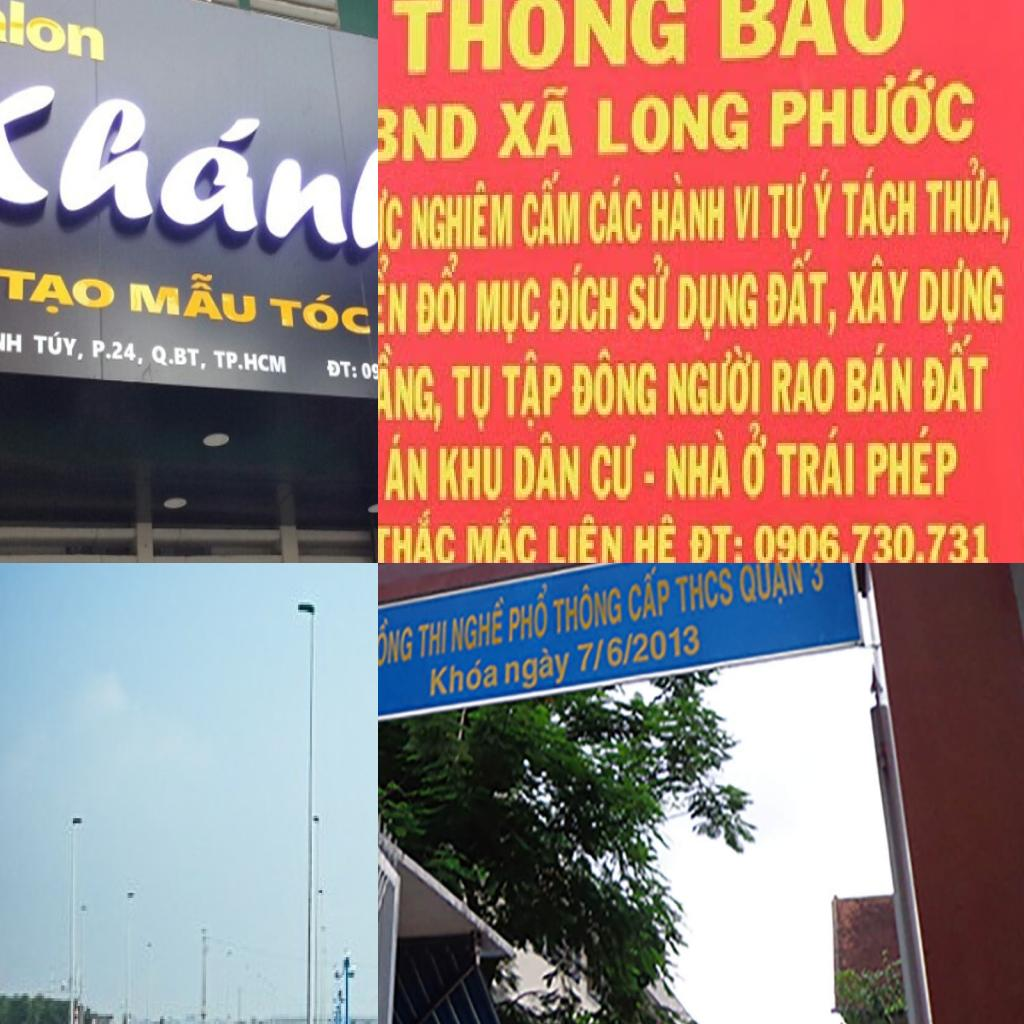text: (0, 63, 378, 265), (390, 0, 690, 81), (768, 67, 978, 155), (716, 0, 910, 66), (596, 86, 754, 160), (752, 519, 994, 563), (924, 152, 1016, 249), (410, 178, 516, 255), (128, 267, 259, 328), (918, 255, 1008, 340), (764, 246, 842, 343), (666, 343, 764, 420), (378, 100, 482, 172), (866, 423, 962, 500), (570, 343, 660, 423), (378, 340, 450, 437), (0, 0, 107, 64), (0, 265, 118, 322), (494, 84, 578, 164), (676, 269, 762, 346), (774, 423, 858, 500), (840, 164, 920, 244), (920, 332, 992, 417), (650, 169, 728, 246), (546, 260, 622, 338), (520, 166, 584, 255), (500, 349, 568, 432), (268, 285, 374, 338), (844, 340, 916, 418), (512, 429, 584, 506), (844, 252, 914, 329), (664, 426, 734, 503), (474, 275, 544, 349), (588, 432, 658, 506), (414, 249, 470, 340), (550, 571, 624, 639), (378, 505, 462, 563), (586, 172, 646, 252), (770, 352, 838, 420), (464, 505, 542, 563), (438, 443, 506, 506), (546, 511, 628, 563), (626, 252, 674, 337), (501, 643, 572, 698), (766, 169, 810, 255), (382, 432, 432, 506), (672, 563, 736, 618), (736, 563, 806, 612), (450, 360, 496, 434), (427, 654, 499, 700), (450, 594, 505, 654), (624, 563, 670, 628), (378, 251, 410, 343), (507, 581, 550, 646), (632, 508, 680, 563), (740, 420, 770, 503), (378, 183, 406, 266), (378, 612, 417, 671), (213, 348, 289, 377), (810, 166, 838, 244), (32, 327, 86, 365), (732, 184, 762, 246), (150, 342, 208, 374), (91, 338, 146, 368), (415, 617, 449, 664), (324, 356, 360, 381), (0, 322, 24, 356), (808, 563, 827, 595)
